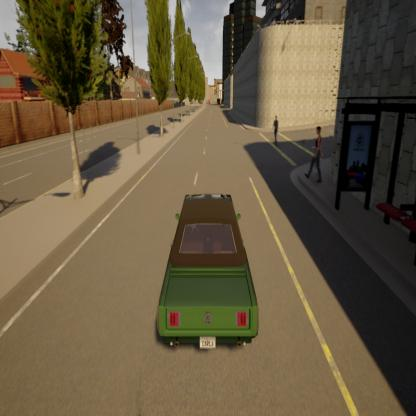Cars: (157, 190, 260, 358)
Pedestrian: (306, 121, 325, 185), (270, 112, 281, 148)
